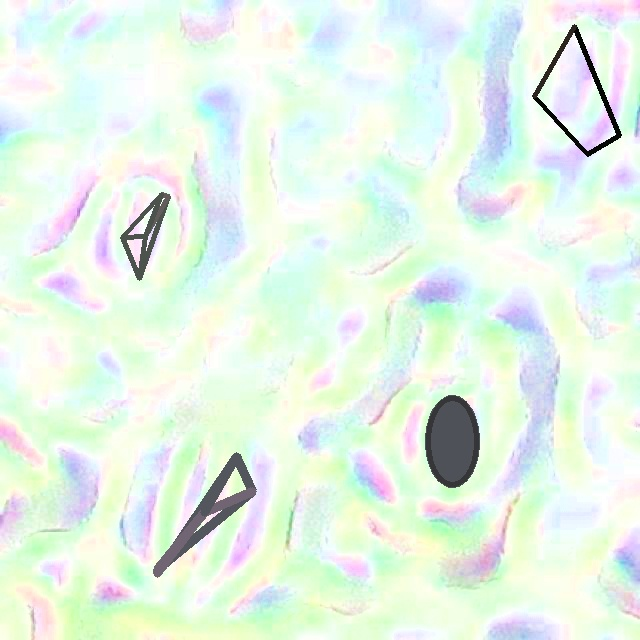open: (153, 452, 256, 573), (532, 24, 621, 156), (425, 395, 479, 487), (120, 193, 170, 279)
